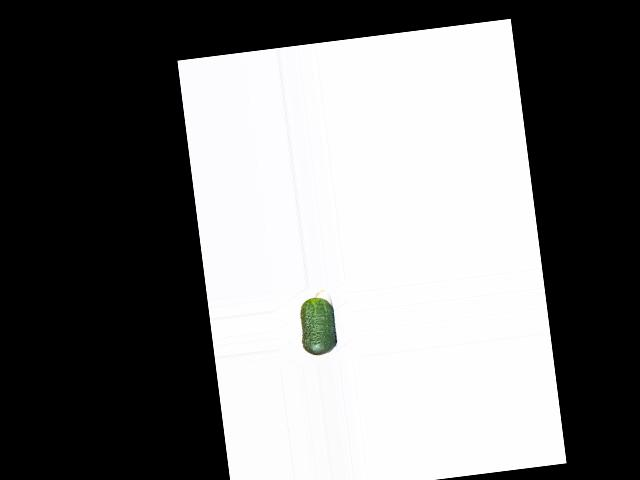cucumber: (296, 289, 338, 356)
